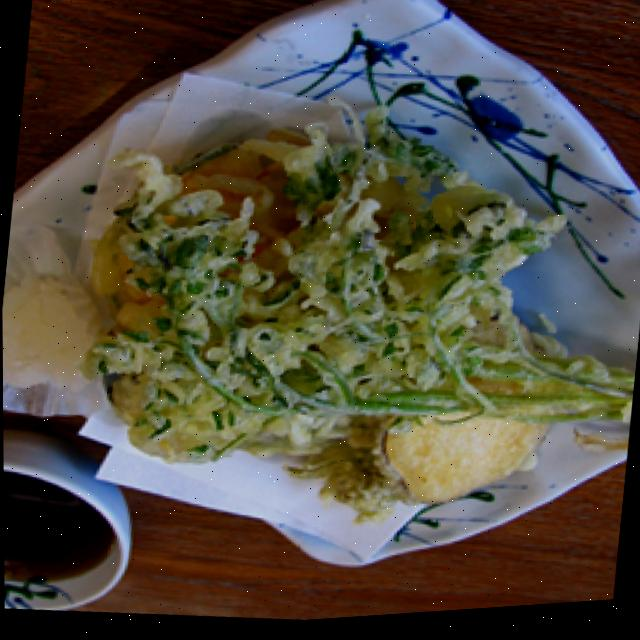蔬菜料理: (0, 40, 640, 570)
